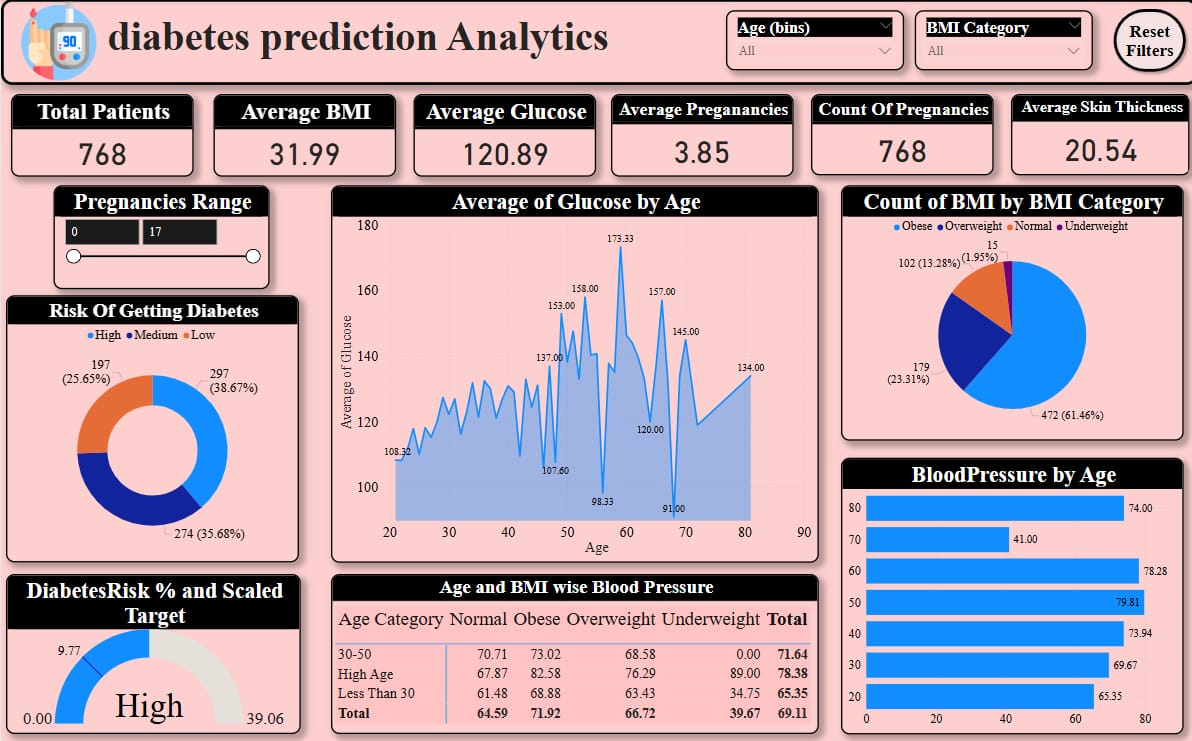

What the dashboard file says about the page in this screenshot:
{"tool":"powerbi","page":{"name":"Page 1","canvas":[2120,1320],"ordinal":0},"visuals":[{"type":"slicer","fields":{"Values":["diabetes new.Age (bins)"]},"box":[1283.2,19.8,314.9,106.6],"z":0,"group":"g1"},{"type":"pieChart","fields":{"Category":["diabetes new.BMI Category"],"Y":["CountNonNull(diabetes new.BMI)"]},"box":[1487.2,329.5,606.6,452],"z":0},{"type":"slicer","fields":{"Values":["diabetes new.BMI Category"]},"box":[1618,19.8,314.9,106.6],"z":1000,"group":"g1"},{"type":"gauge","fields":{"Y":["diabetes new.DiabetesRisk %"],"TargetValue":["diabetes new.Scaled Target"]},"box":[8.7,1017.7,522,282.9],"z":1000},{"type":"image","box":[-8.7,0,221.7,148.7],"z":2000,"group":"g1"},{"type":"card","title":"Average Glucose","fields":{"Values":["Avg(diabetes new.Glucose)"]},"box":[731.6,167.2,323,146.6],"z":2000,"group":"g2"},{"type":"lineChart","fields":{"Category":["diabetes new.Age"],"Y":["Avg(diabetes new.Glucose)"]},"box":[583.2,329.5,863.2,667.8],"z":2000},{"type":"card","title":"Average BMI","fields":{"Values":["Avg(diabetes new.BMI)"]},"box":[376.3,167.2,323,146.6],"z":3000,"group":"g2"},{"type":"clusteredBarChart","title":"BloodPressure by Age","fields":{"Y":["Avg(diabetes new.BloodPressure (mg/dL))"],"Category":["diabetes new.Age (bins)"]},"box":[1487.2,810.7,606.6,489.9],"z":3000},{"type":"slicer","title":"Pregnancies Range","fields":{"Values":["diabetes new.Pregnancies"]},"box":[93.3,329.5,382,183.7],"z":4000},{"type":"textbox","box":[0,0,2120,151.6],"z":5000},{"type":"donutChart","title":"Risk Of Getting Diabetes","fields":{"Y":["diabetes new.PatientCounts"],"Category":["diabetes new.Diabetes Risk"]},"box":[8.5,524.4,518.7,473.1],"z":6000},{"type":"group","id":"g1","title":"Group 1","box":[-8.7,0,2114.2,148.7],"z":7000},{"type":"pivotTable","title":"Age and BMI wise Blood Pressure","fields":{"Rows":["diabetes new.Age Category"],"Columns":["diabetes new.BMI Category"],"Values":["Avg(diabetes new.BloodPressure (mg/dL))"]},"box":[583.2,1017.7,863.2,282.9],"z":8000},{"type":"group","id":"g2","title":"Group 2","box":[18.6,167.2,2086.8,146.6],"z":9000},{"type":"card","title":"Average Preganancies","fields":{"Values":["Avg(diabetes new.Pregnancies)"]},"box":[1079.4,167.2,323,146.6],"z":11000,"group":"g2"},{"type":"actionButton","box":[1959.6,9.9,145.9,128.9],"z":11002,"group":"g1"},{"type":"card","title":"Count Of Pregnancies","fields":{"Values":["CountNonNull(diabetes new.Pregnancies)"]},"box":[1434.6,167.2,323,144.1],"z":12000,"group":"g2"},{"type":"card","title":"Average Skin Thickness","fields":{"Values":["Avg(diabetes new.SkinThickness)"]},"box":[1787.4,167.2,318,144.1],"z":13000,"group":"g2"},{"type":"card","title":"Total Patients","fields":{"Values":["diabetes new.PatientCounts"]},"box":[18.6,167.2,323,146.6],"z":14000,"group":"g2"}]}

Visuals, with their boxes in screenshot pixels (x1, y1, x2, y2), scaled from the page's 2120x1320 canvas onto the 1192x741 screenshot:
slicer - diabetes new.Age (bins): [721,11,899,71]
pieChart - diabetes new.BMI Category x CountNonNull(diabetes new.BMI): [836,185,1177,439]
slicer - diabetes new.BMI Category: [910,11,1087,71]
gauge - diabetes new.DiabetesRisk % x diabetes new.Scaled Target: [5,571,298,730]
image: [0,0,120,83]
"Average Glucose" card: [411,94,593,176]
lineChart - diabetes new.Age x Avg(diabetes new.Glucose): [328,185,813,560]
"Average BMI" card: [212,94,393,176]
"BloodPressure by Age" clusteredBarChart: [836,455,1177,730]
"Pregnancies Range" slicer: [52,185,267,288]
textbox: [0,0,1191,85]
"Risk Of Getting Diabetes" donutChart: [5,294,296,560]
"Group 1" group: [0,0,1184,83]
"Age and BMI wise Blood Pressure" pivotTable: [328,571,813,730]
"Group 2" group: [10,94,1184,176]
"Average Preganancies" card: [607,94,789,176]
actionButton: [1102,6,1184,78]
"Count Of Pregnancies" card: [807,94,988,175]
"Average Skin Thickness" card: [1005,94,1184,175]
"Total Patients" card: [10,94,192,176]
